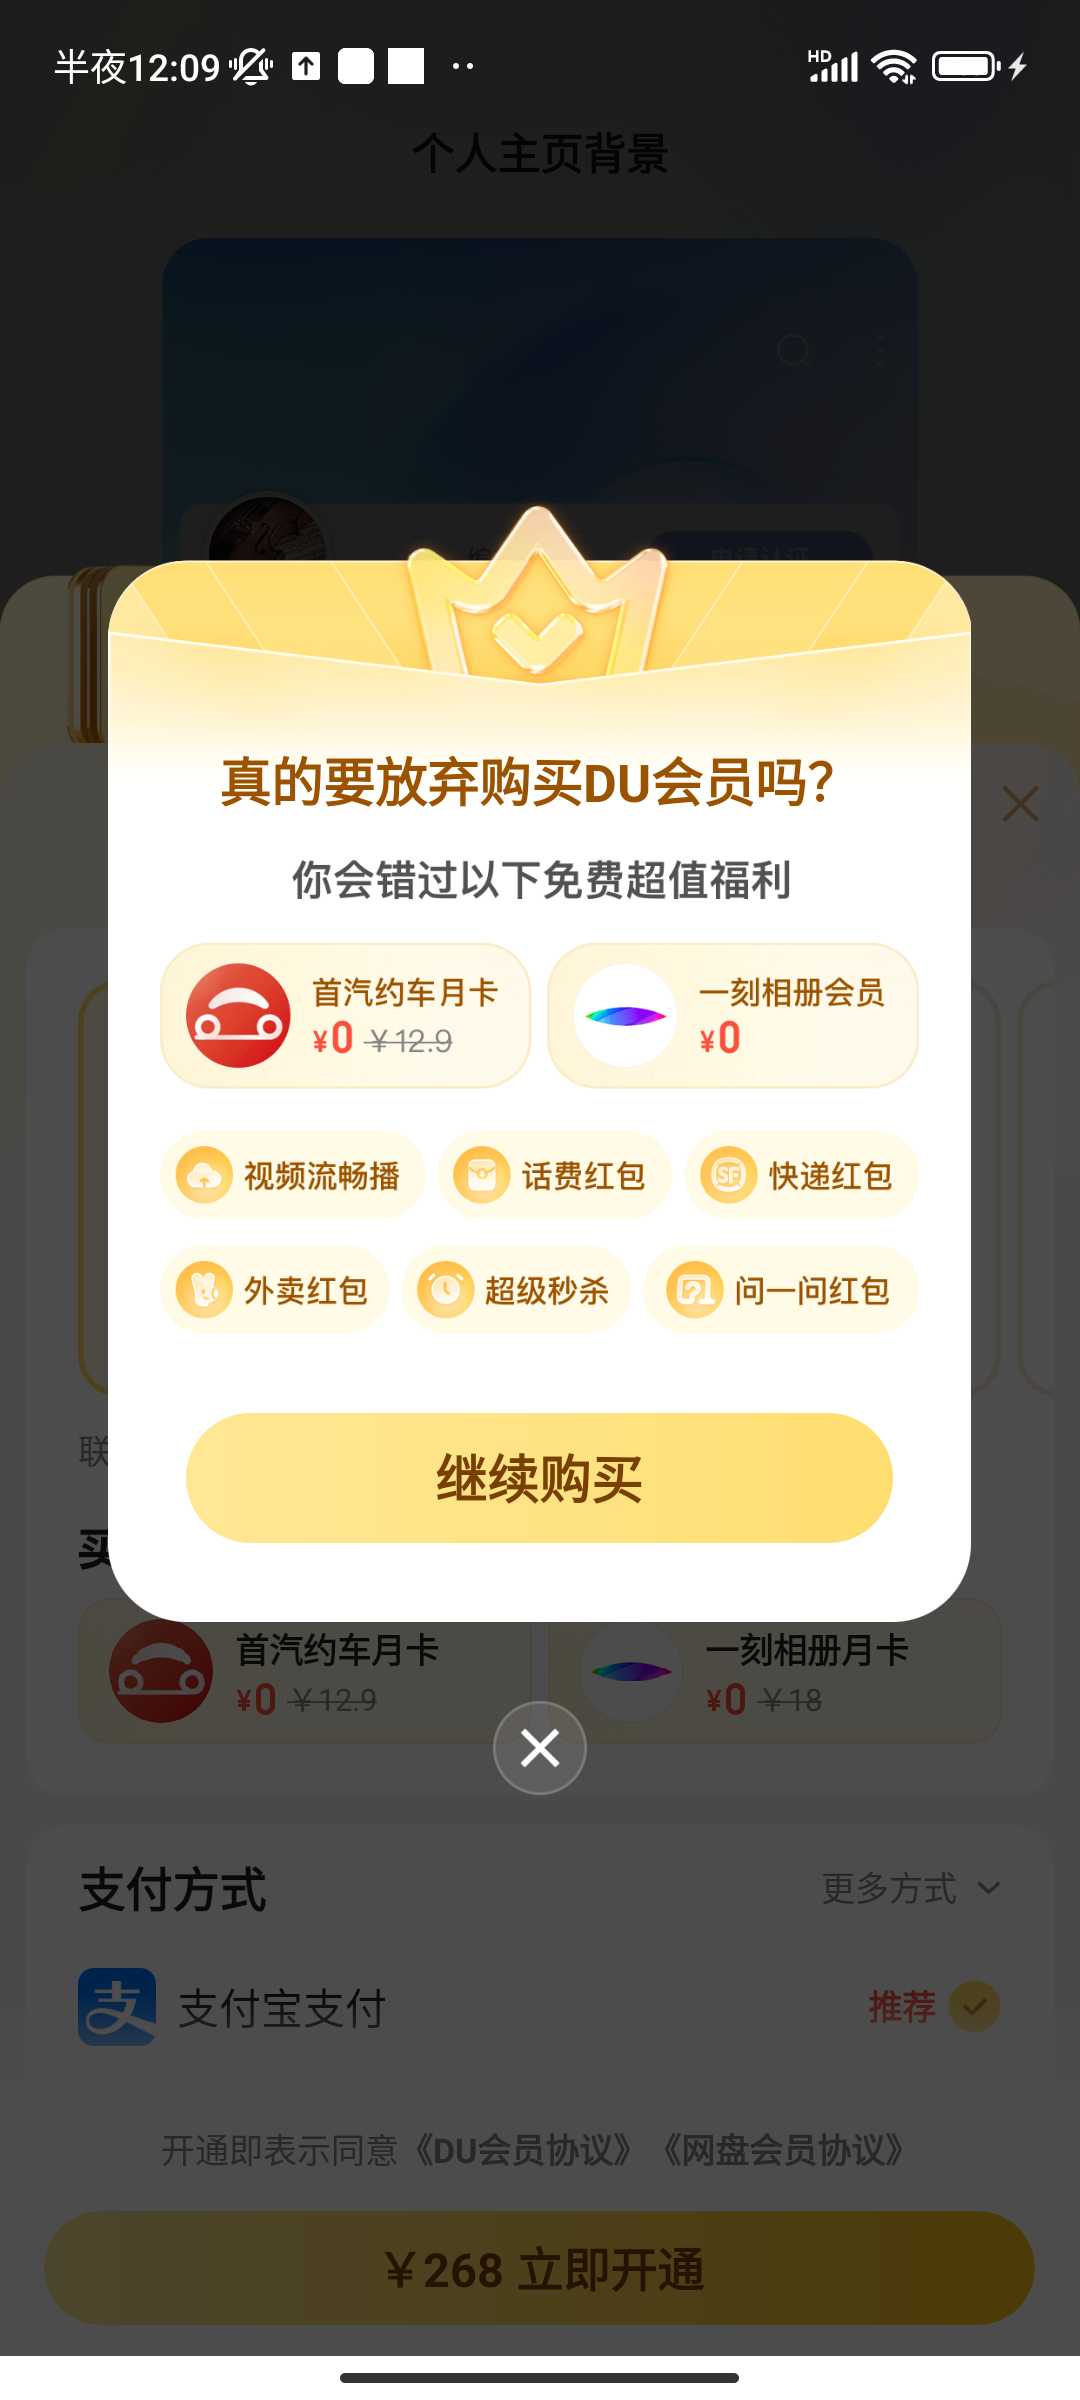ui_group: (109, 559, 970, 1626)
